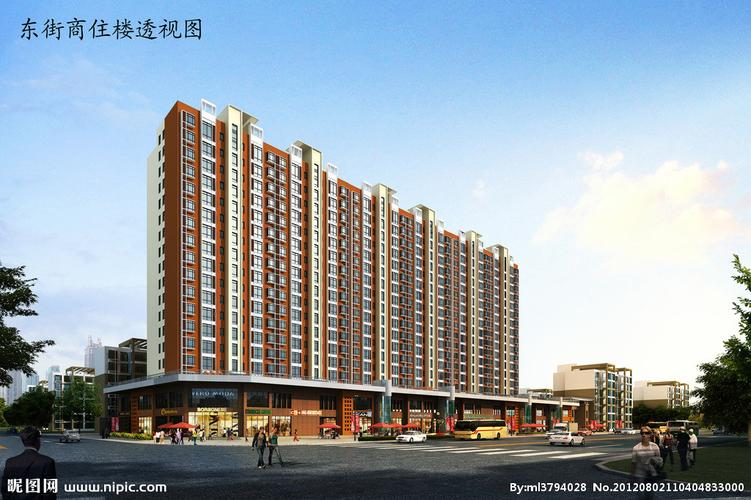buildings: (128, 113, 361, 421), (274, 165, 507, 413), (219, 118, 323, 390), (312, 160, 420, 397), (388, 211, 510, 407)
